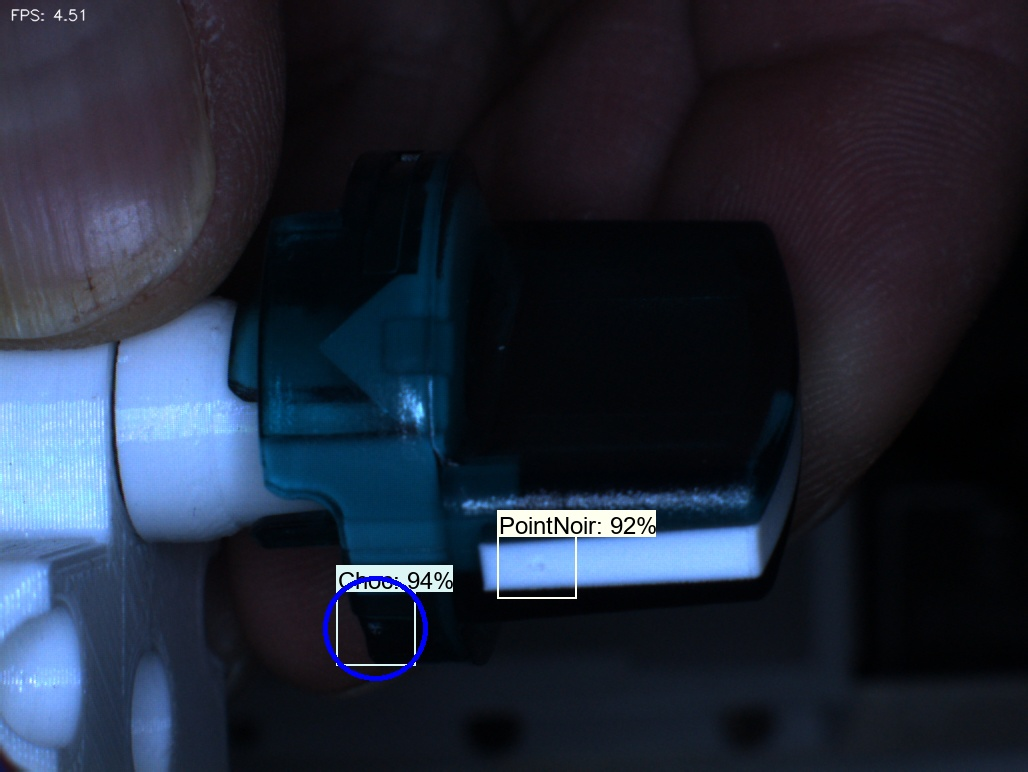DentOk: (295, 298, 374, 398)
